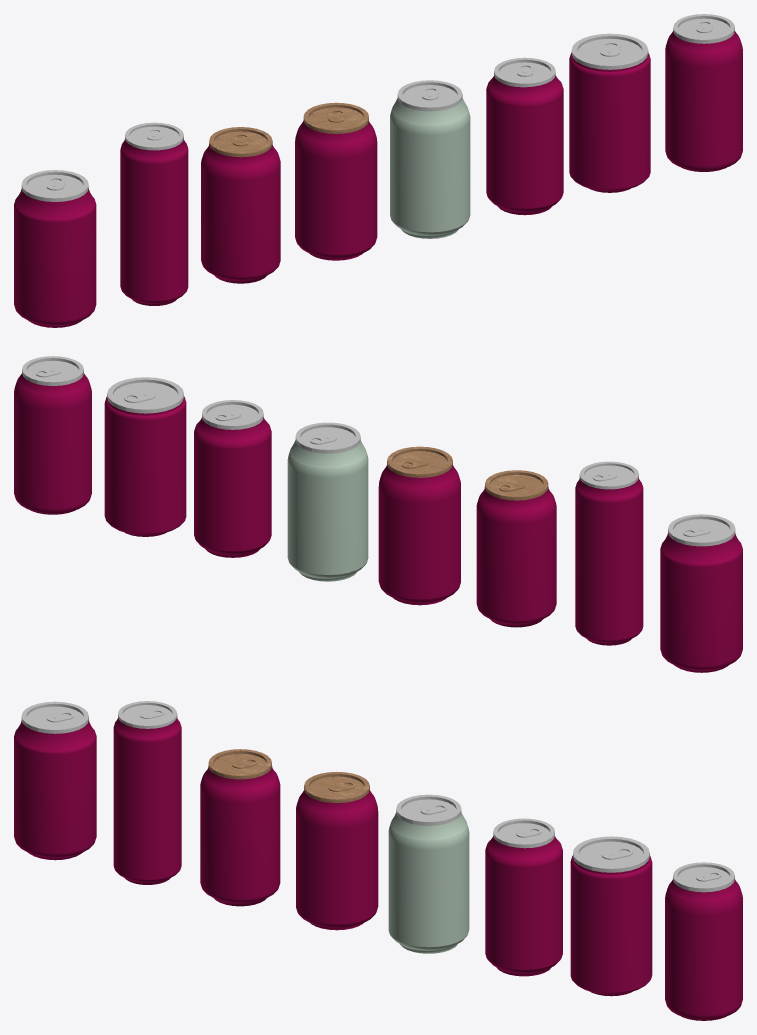
File: drink.fbx
3 renders of one model, top to bottom at view 1: azimuth 30°, elevation 25°; view 2: azimuth 150°, elevation 25°; view 3: azimuth 330°, elevation 25°, orthographic.
Parts seen in each view (by area): view 1: Group6, Group12, Group2, Group15, Group23, Group8, Group25, Group17, Group22, Group3, Group11, Group14 (+4 smaller); view 2: Group6, Group12, Group2, Group15, Group23, Group8, Group25, Group17, Group22, Group3, Group11, Group14 (+4 smaller); view 3: Group6, Group12, Group2, Group15, Group23, Group8, Group25, Group17, Group22, Group3, Group11, Group14 (+4 smaller).
Part boxes in pixels (x1=…): Group6: x1=120, y1=138, x2=188, y2=305; Group12: x1=295, y1=120, x2=377, y2=260; Group2: x1=14, y1=188, x2=96, y2=327; Group15: x1=390, y1=98, x2=470, y2=238; Group23: x1=569, y1=53, x2=650, y2=192; Group8: x1=201, y1=144, x2=280, y2=283; Group25: x1=665, y1=31, x2=742, y2=171; Group17: x1=486, y1=75, x2=563, y2=215; Group22: x1=571, y1=33, x2=648, y2=69; Group3: x1=21, y1=170, x2=88, y2=201; Group11: x1=303, y1=102, x2=368, y2=133; Group14: x1=397, y1=80, x2=462, y2=111; Group6: x1=575, y1=477, x2=643, y2=645; Group12: x1=378, y1=465, x2=460, y2=605; Group2: x1=660, y1=533, x2=742, y2=672; Group15: x1=287, y1=440, x2=368, y2=581; Group23: x1=104, y1=396, x2=186, y2=536; Group8: x1=476, y1=487, x2=556, y2=627; Group25: x1=14, y1=373, x2=91, y2=514; Group17: x1=194, y1=417, x2=271, y2=557; Group22: x1=107, y1=377, x2=183, y2=413; Group3: x1=668, y1=514, x2=735, y2=546; Group11: x1=387, y1=446, x2=452, y2=477; Group14: x1=295, y1=422, x2=360, y2=453; Group6: x1=113, y1=717, x2=181, y2=884; Group12: x1=296, y1=790, x2=378, y2=930; Group2: x1=14, y1=720, x2=96, y2=860; Group15: x1=388, y1=812, x2=469, y2=953; Group23: x1=570, y1=855, x2=652, y2=996; Group8: x1=200, y1=766, x2=280, y2=906; Group25: x1=665, y1=879, x2=742, y2=1020; Group17: x1=485, y1=836, x2=562, y2=976; Group22: x1=573, y1=836, x2=649, y2=872; Group3: x1=21, y1=701, x2=88, y2=733; Group11: x1=304, y1=772, x2=369, y2=802; Group14: x1=396, y1=794, x2=461, y2=825.
Size of the model in its own units: 26.13 by 5.6 by 2.65.
